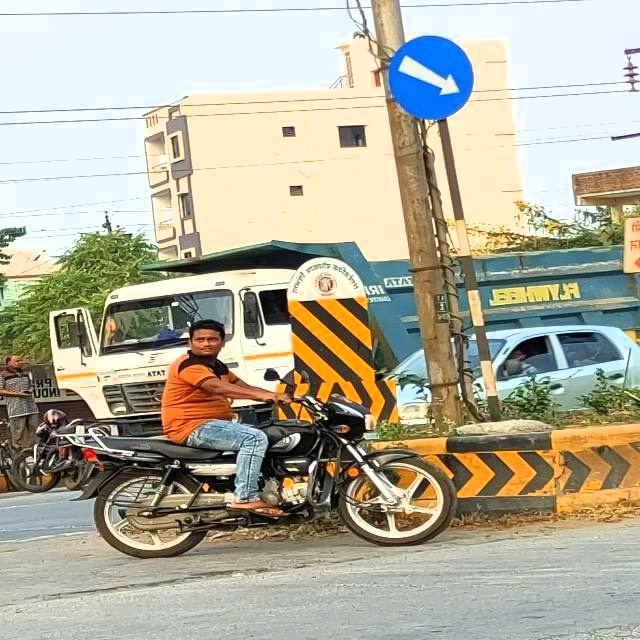R.301e: (385, 32, 477, 125)
